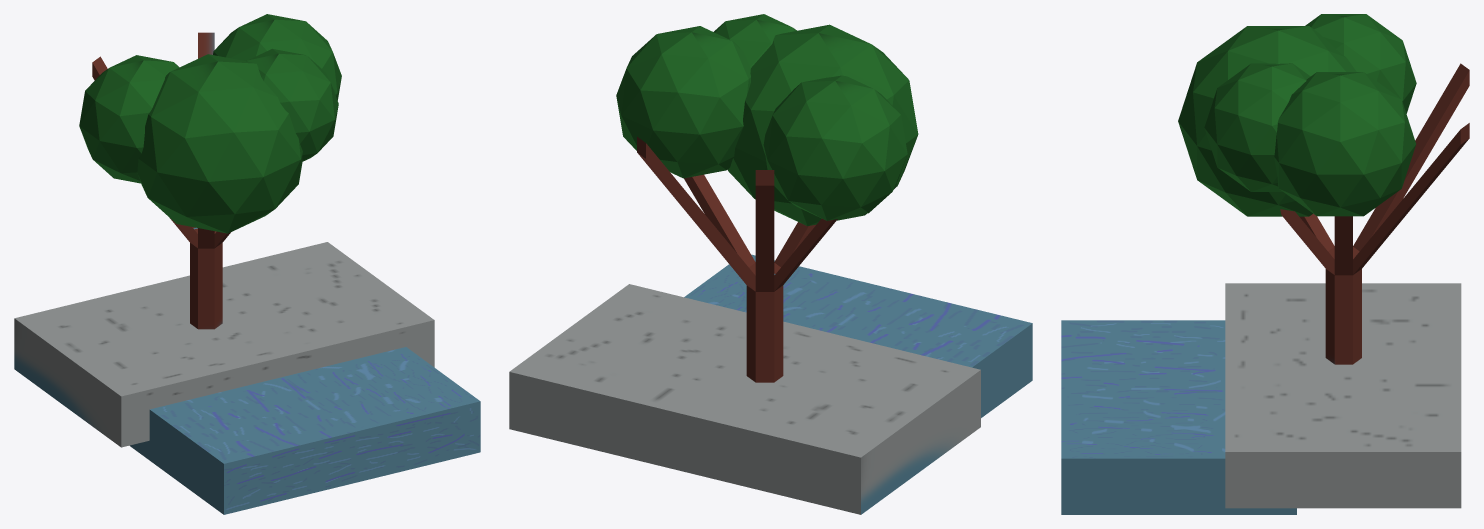
File: background.gltf
3 renders of one model, left to right at view 1: azimuth 30°, elevation 25°; view 2: azimuth 150°, elevation 25°; view 3: azimuth 270°, elevation 25°, orthographic. The views are drawn at different scales.
Visible parts, largest first — view 1: Cube.001; view 2: Cube.001; view 3: Cube.001.
Boxes of the visible parts, bbox=[...] form: Cube.001: bbox=[14, 14, 480, 514]; Cube.001: bbox=[509, 14, 1032, 514]; Cube.001: bbox=[1061, 14, 1469, 514].
Size of the model in its own units: 12.83 by 14.08 by 13.13.
1 material, 1 textured.
